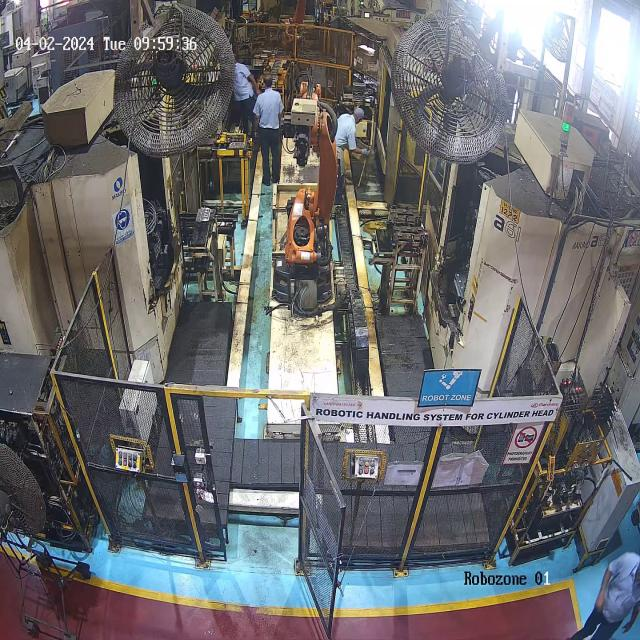person: (334, 106, 368, 205), (258, 73, 286, 187), (233, 51, 258, 140)
